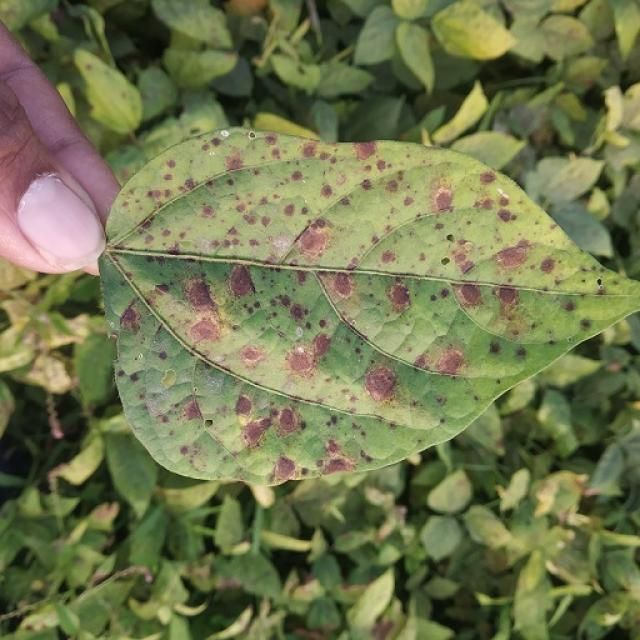Anthracnose: (176, 272, 232, 349), (239, 396, 304, 451), (352, 360, 397, 413), (364, 365, 398, 403), (296, 223, 330, 260), (449, 239, 481, 274), (186, 277, 217, 310), (229, 263, 257, 298), (188, 316, 221, 345), (241, 418, 271, 449), (495, 244, 529, 270), (287, 347, 316, 376), (435, 348, 465, 376), (272, 455, 297, 482), (387, 282, 411, 310), (276, 407, 300, 435), (119, 303, 141, 332), (331, 272, 354, 299), (458, 283, 482, 307), (321, 456, 351, 475), (495, 285, 519, 307), (432, 187, 454, 211), (312, 333, 332, 359), (240, 346, 265, 366), (183, 399, 203, 422), (354, 141, 378, 160), (223, 152, 245, 172), (235, 393, 253, 417), (539, 257, 557, 275), (289, 302, 306, 321), (300, 142, 319, 158), (497, 208, 516, 223), (380, 250, 397, 265), (479, 171, 496, 184), (320, 184, 334, 198), (200, 205, 215, 218), (263, 134, 278, 146), (283, 204, 296, 217), (489, 341, 501, 354), (360, 178, 373, 190), (290, 170, 303, 182), (346, 258, 359, 270), (580, 318, 592, 330), (515, 346, 527, 358), (157, 351, 168, 361), (166, 159, 177, 168)
Blackgram: (100, 130, 639, 484)
